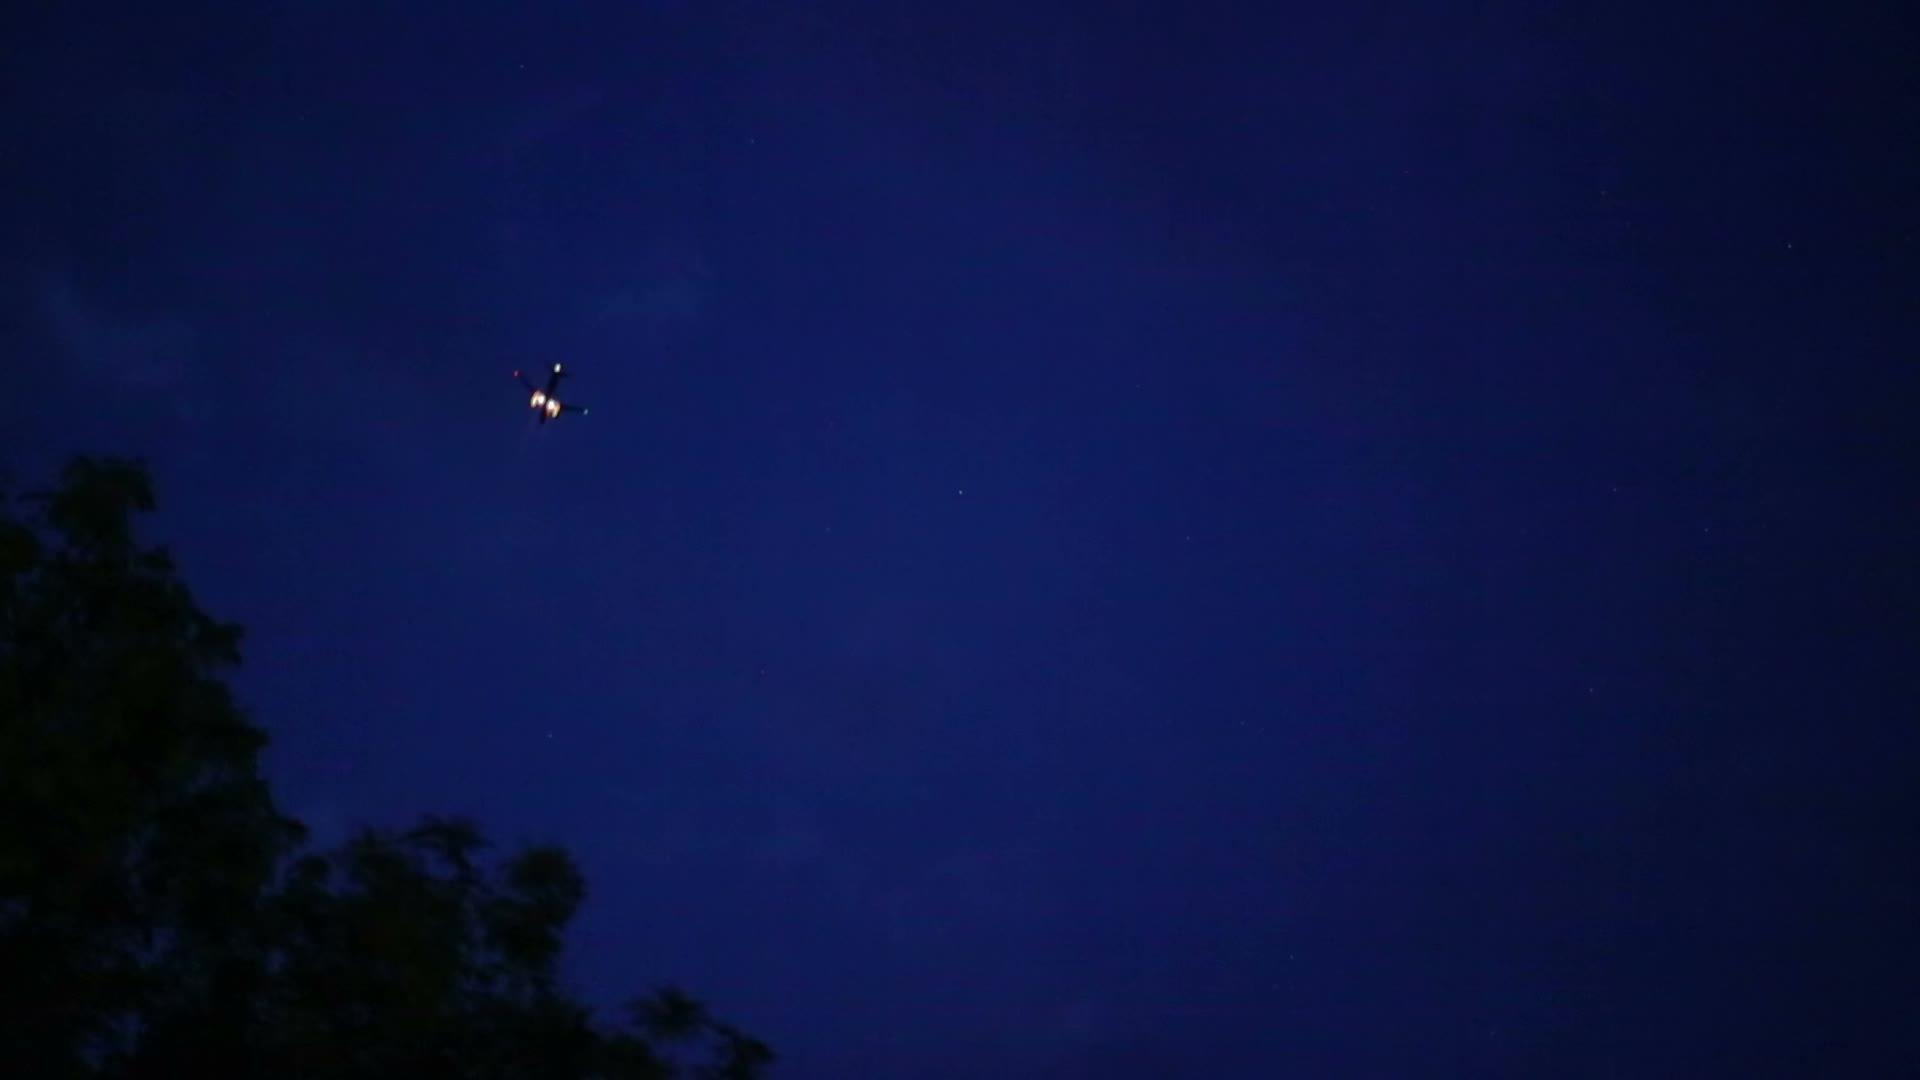Plane: (504, 345, 591, 440)
